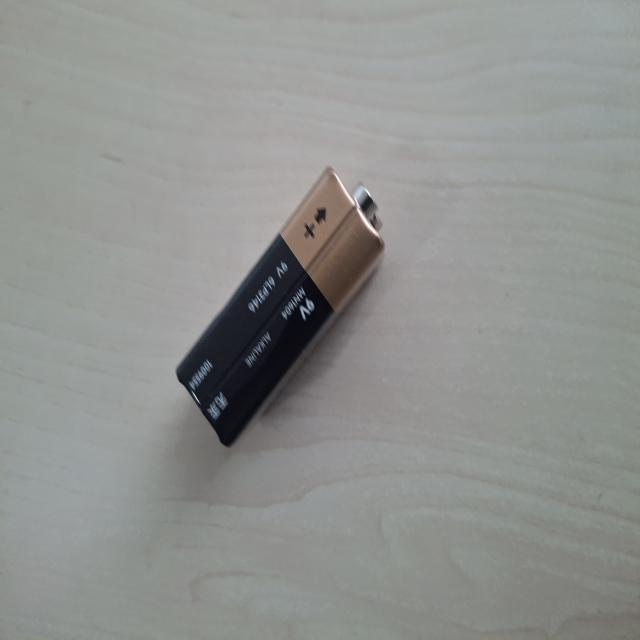9V: (122, 337, 338, 616)
